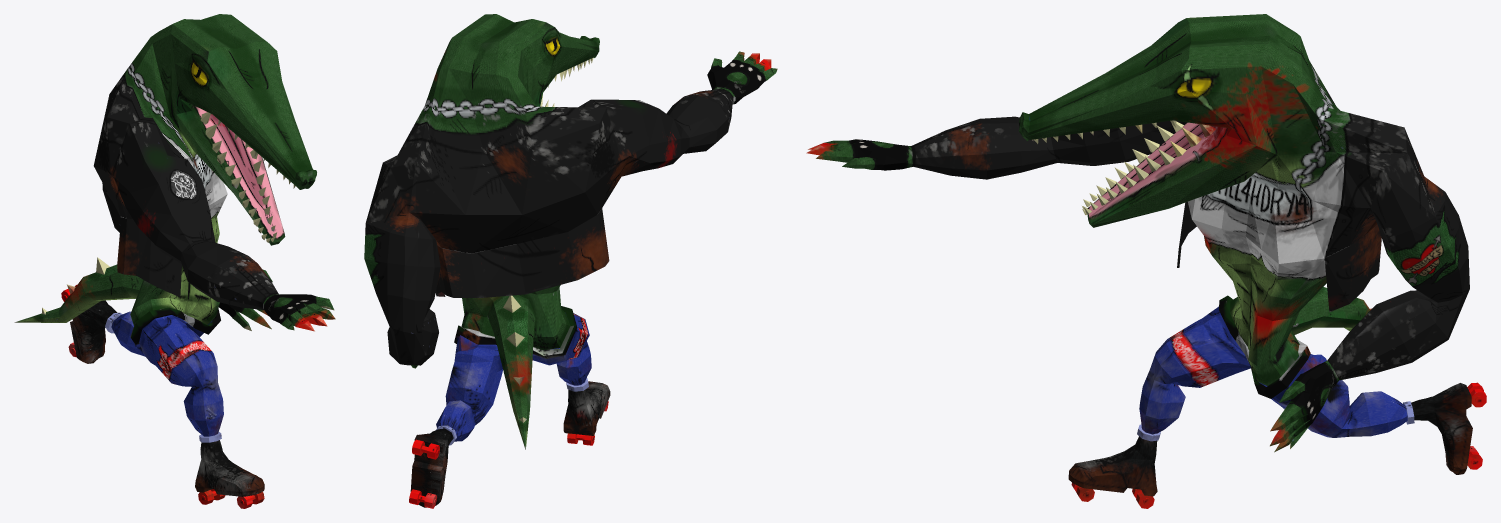
File: cocodrilaBonesSelect_000011.obj
3 views of the same model, side by side, from view 1: azimuth 30°, elevation 25°; view 2: azimuth 150°, elevation 25°; view 3: azimuth 270°, elevation 25° (orthographic). The views are drawn at different scales.
Visible parts, largest first — view 1: Crocodile.002_Cylinder.002; view 2: Crocodile.002_Cylinder.002; view 3: Crocodile.002_Cylinder.002.
Part boxes in pixels (bbox=[...]): Crocodile.002_Cylinder.002: bbox=[14, 14, 335, 508]; Crocodile.002_Cylinder.002: bbox=[364, 14, 777, 508]; Crocodile.002_Cylinder.002: bbox=[806, 14, 1486, 508].
Bounding box in the file's own units: 3.01 × 6.03 × 7.46.
